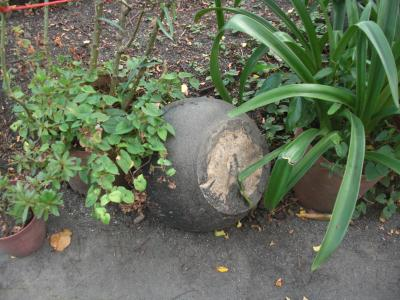bowl: (146, 94, 273, 231)
